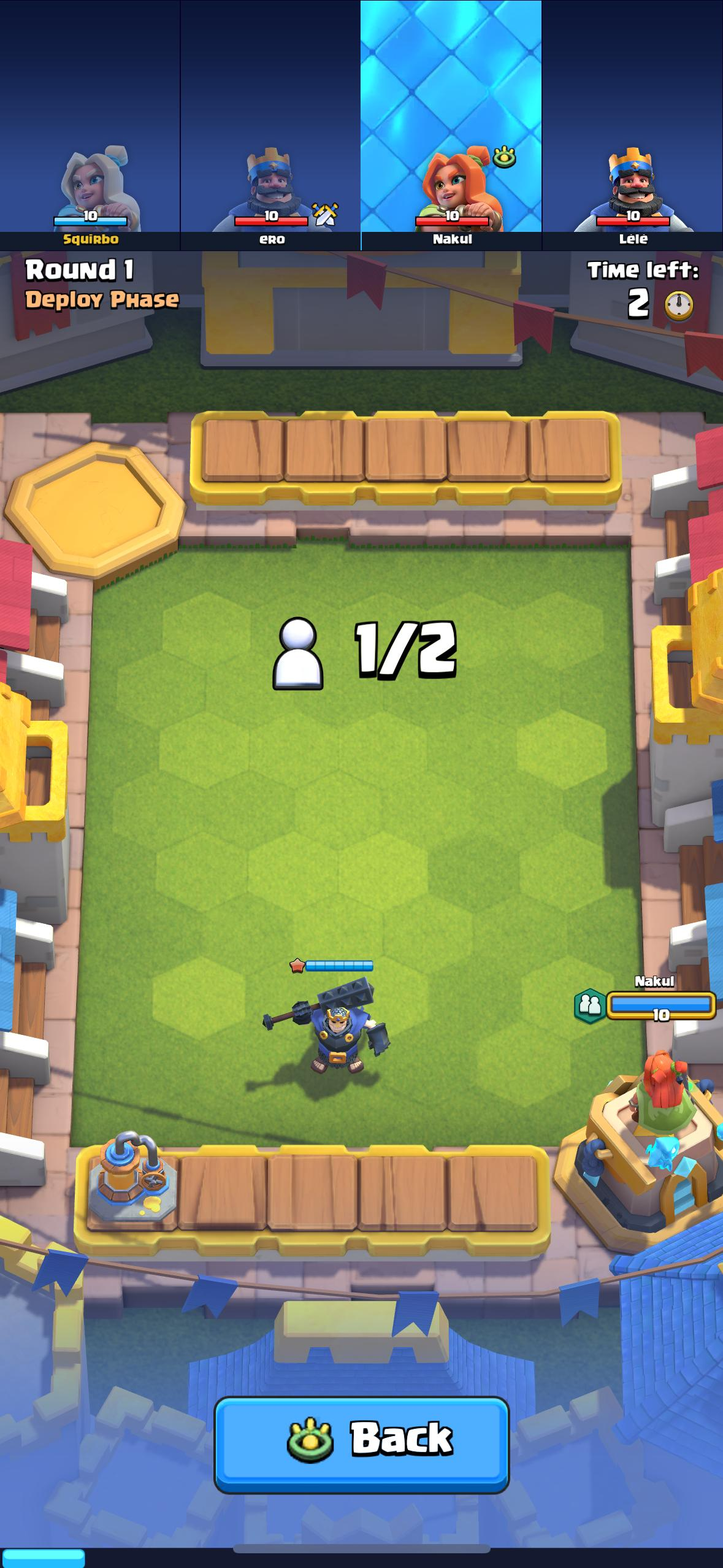collector: (82, 1136, 180, 1225)
king: (294, 975, 392, 1079)
